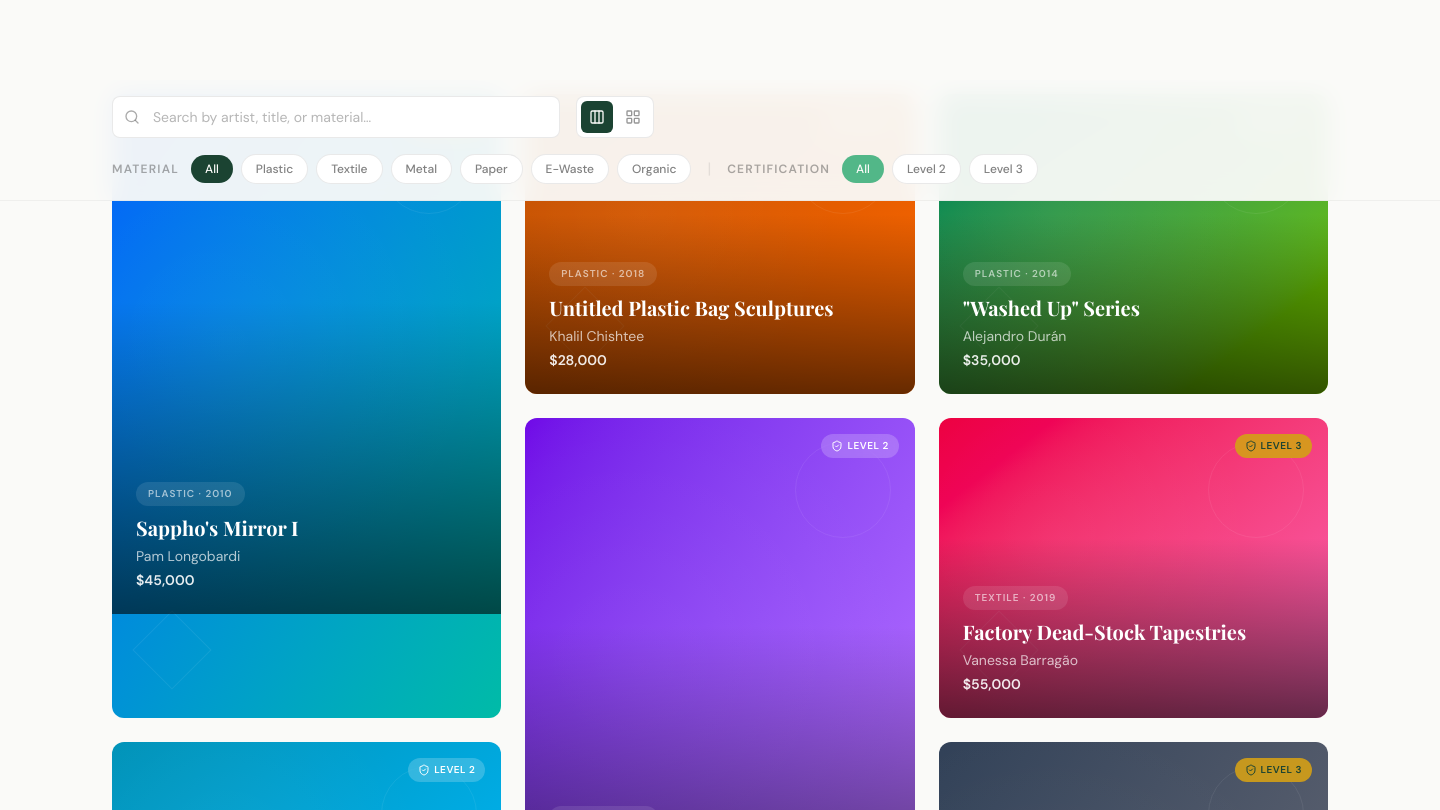
Test: Artwork Detail Modal › opens modal when artwork card is clicked
(page scrolled)
What coordinates should you click on to do the following:
click the button with aria-label "View Sappho's Mirror I by Pam Longobardi"
I would click on:
 (307, 406)
Its box is left=112, top=94, right=501, bottom=718.
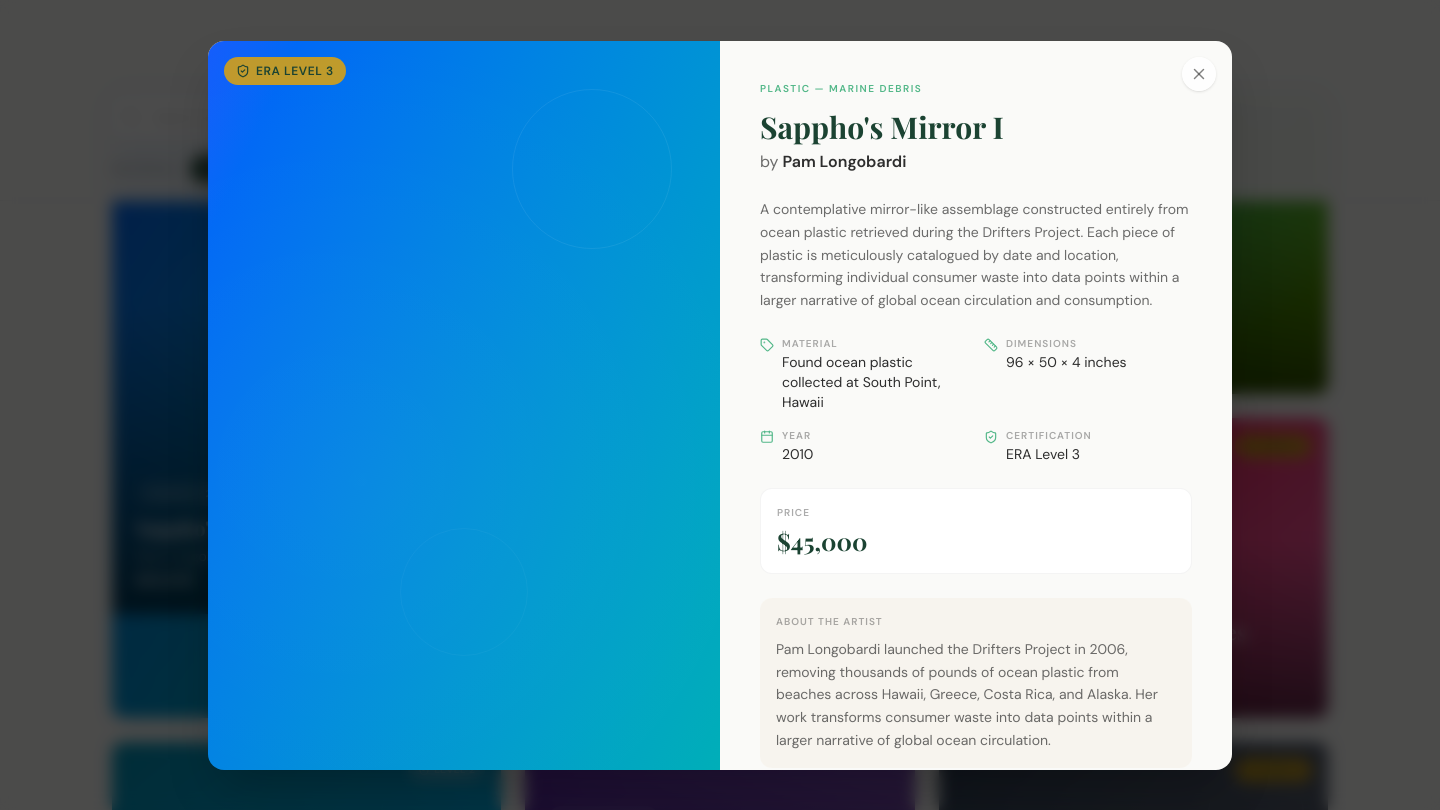
Result: the dialog is shown
